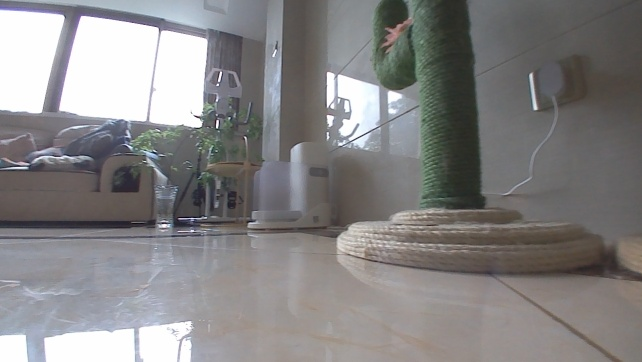sofa: (0, 119, 175, 229)
wire: (480, 95, 562, 198)
